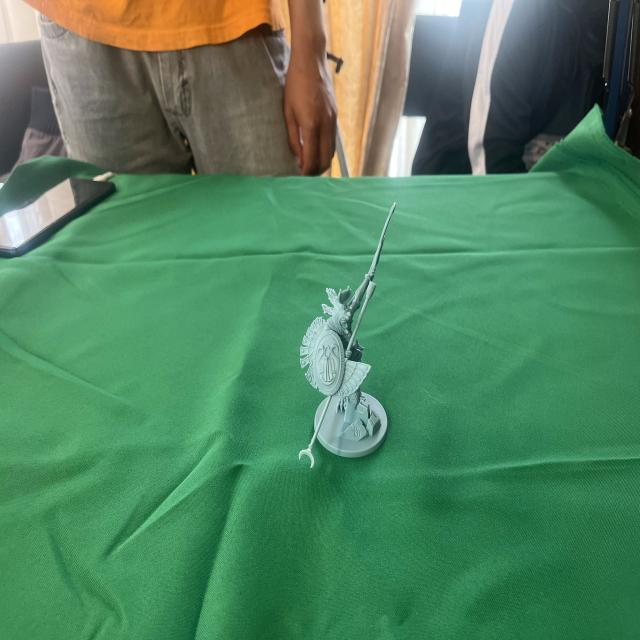isis: (292, 186, 407, 489)
